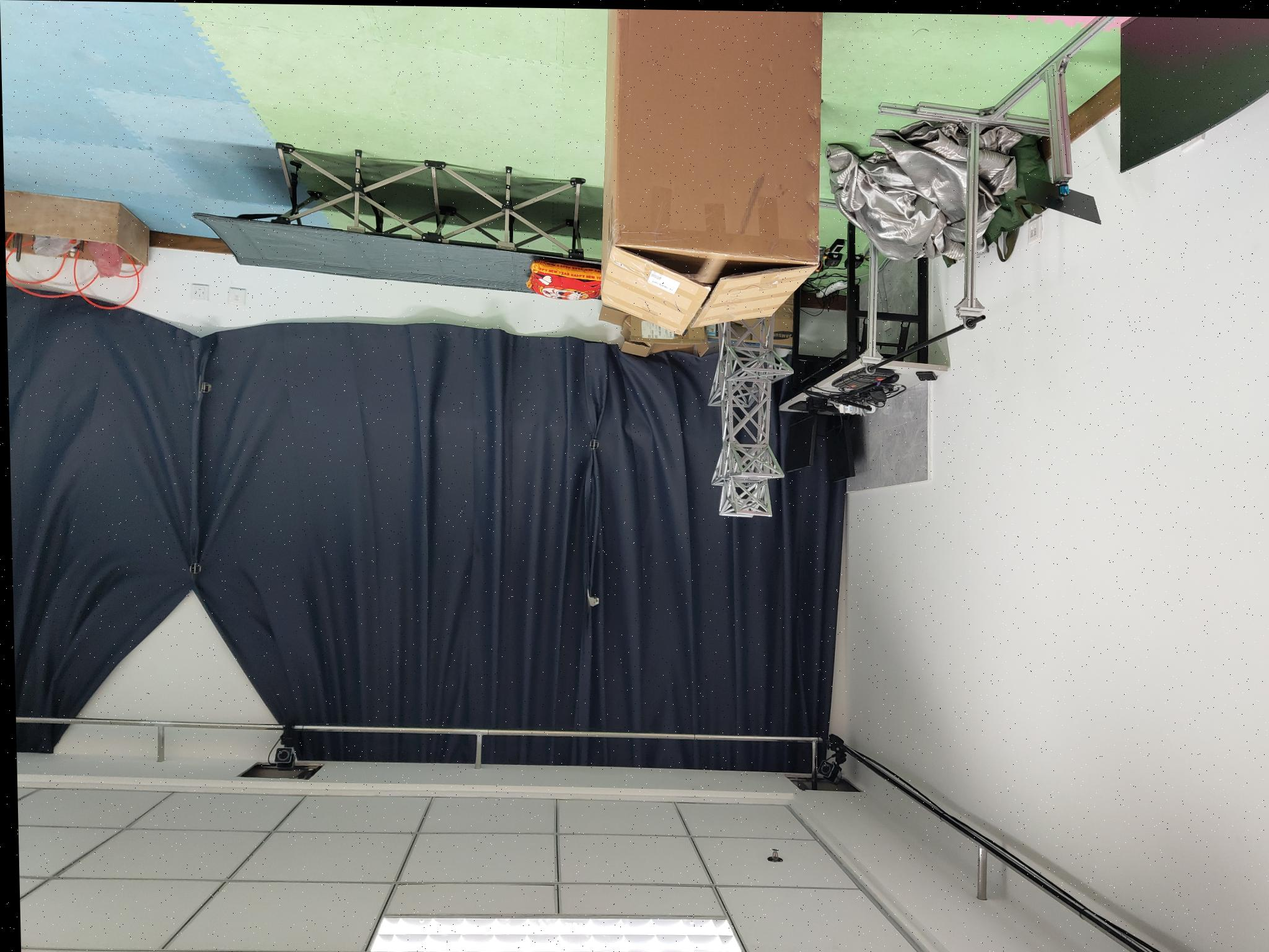tower: (703, 325, 800, 522)
